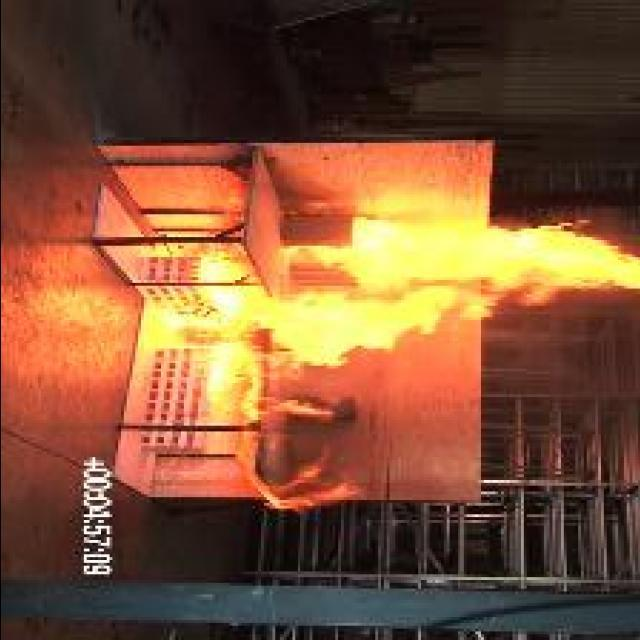Fire: (161, 256, 493, 424), (283, 217, 640, 294)
